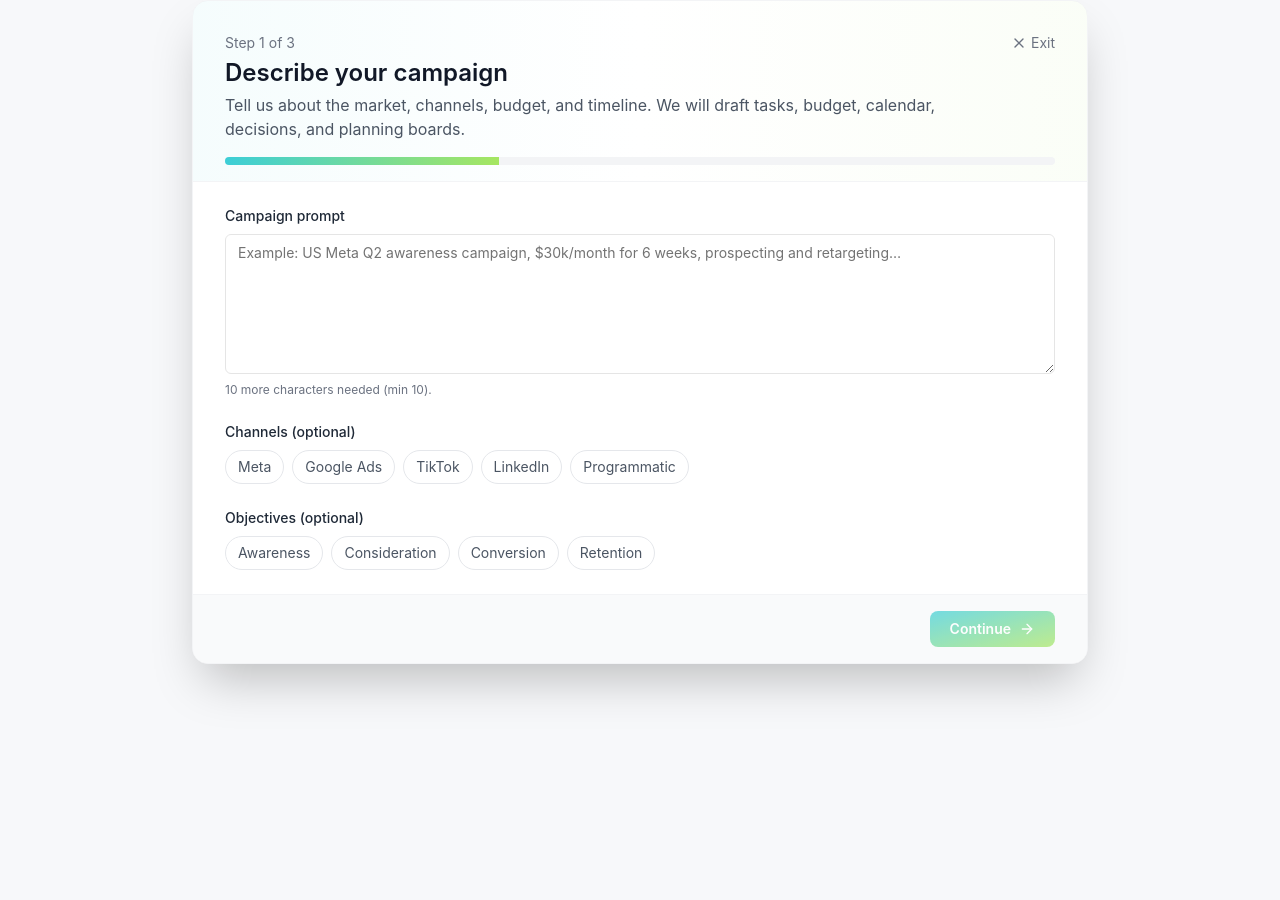
QuickStartWizard › shows confirm error without navigating
Type "US Meta Q2 campaign with $30k monthly budget for six weeks" into the text box labelled "Campaign prompt" at (640, 304), box [225,234,1055,374]
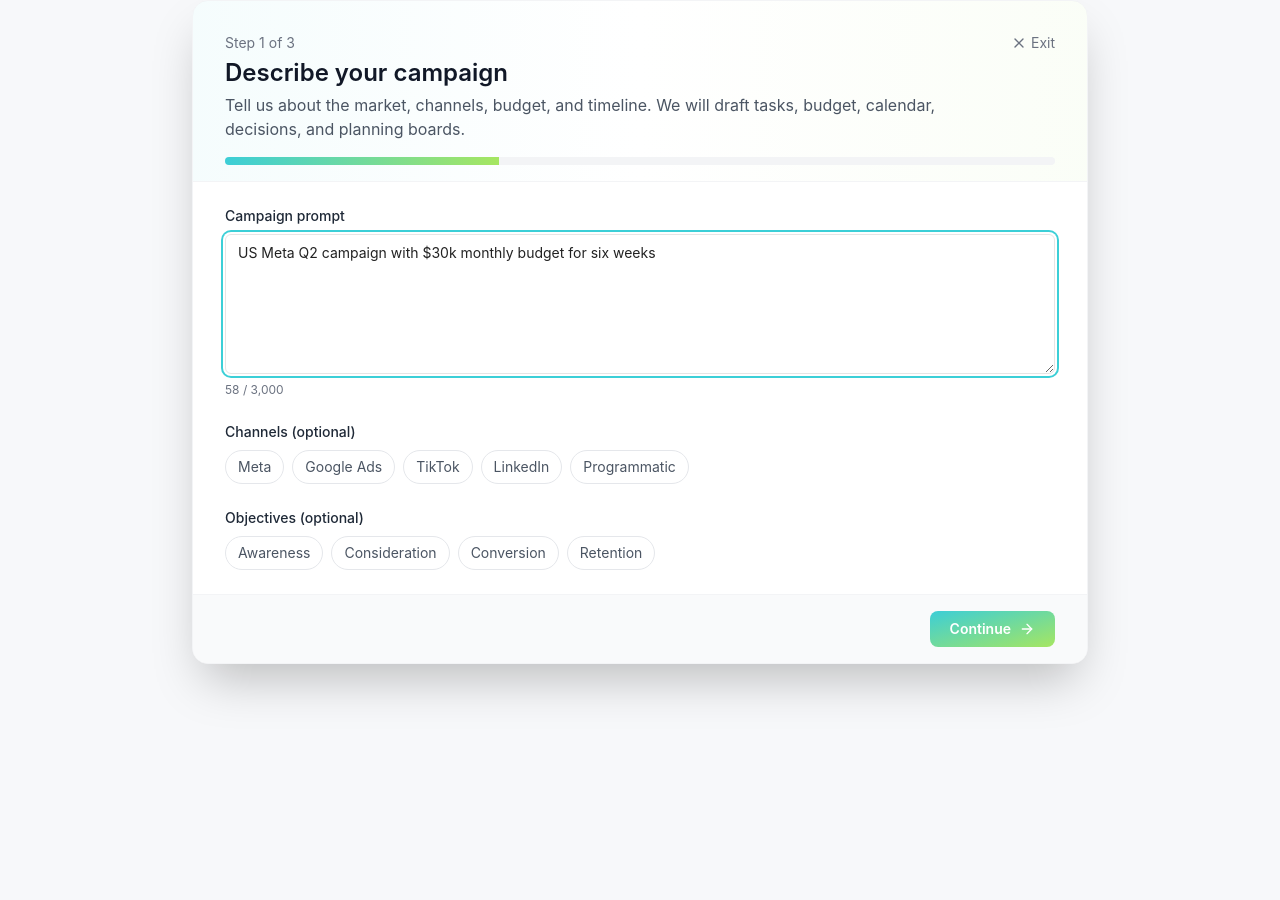
Click the button "Continue" at (992, 629), box [930,611,1055,647]
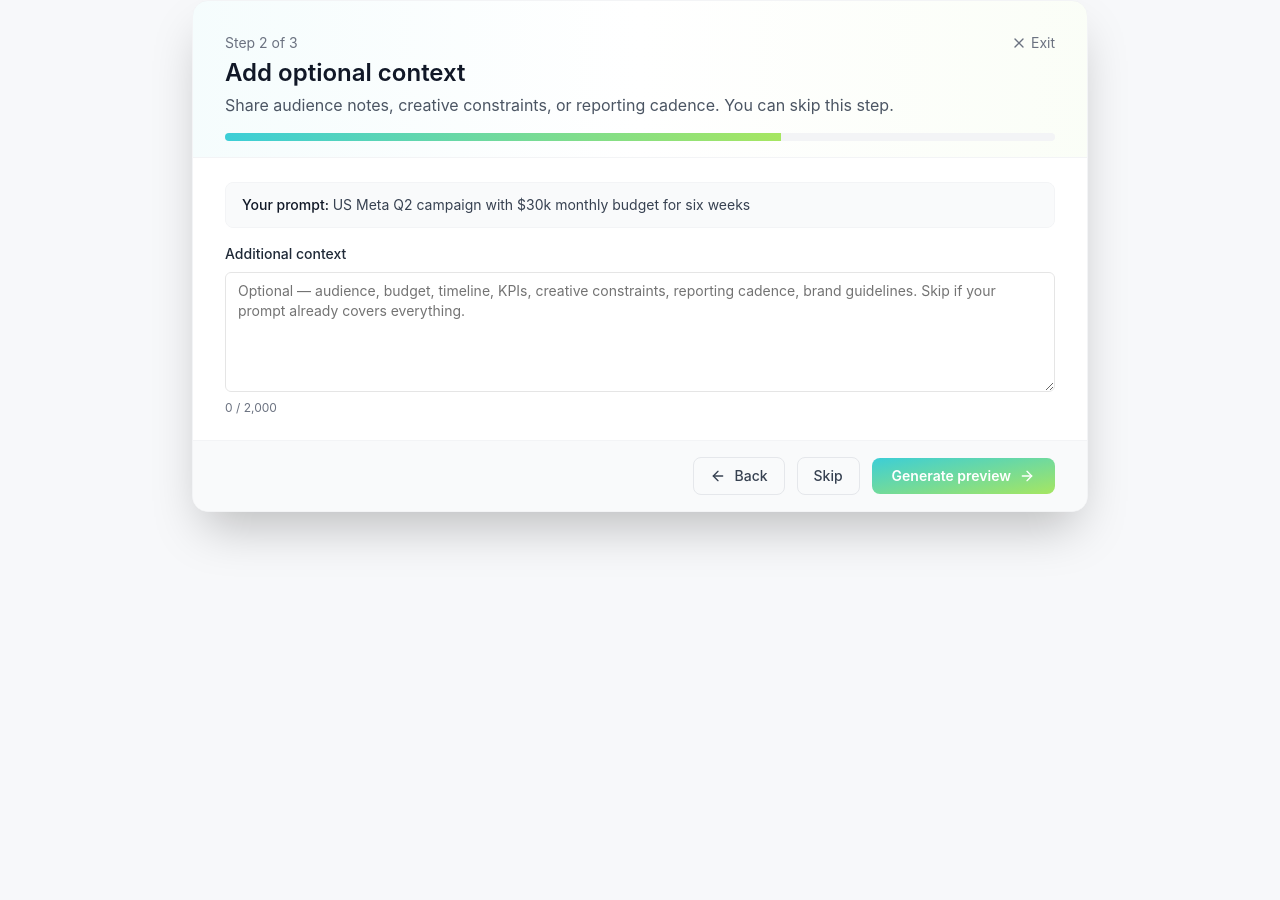
Now the heading "Add optional context" is shown, box [225,58,466,87]
Click the button "Generate preview" at (963, 476), box [872,458,1055,494]
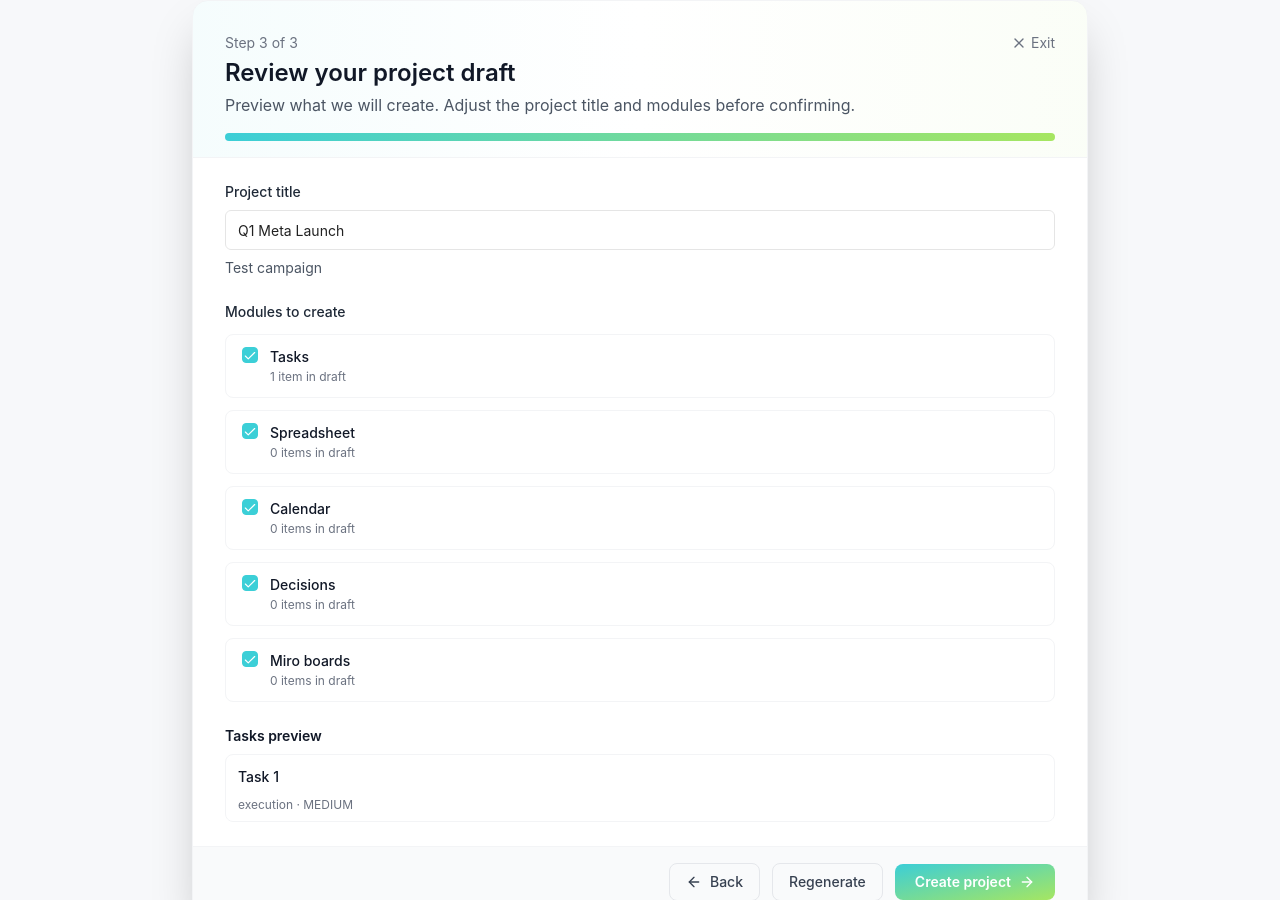
Now the heading "Review your project draft" is shown, box [225,58,516,87]
Click the button "Create project" at (975, 882), box [895,864,1055,899]
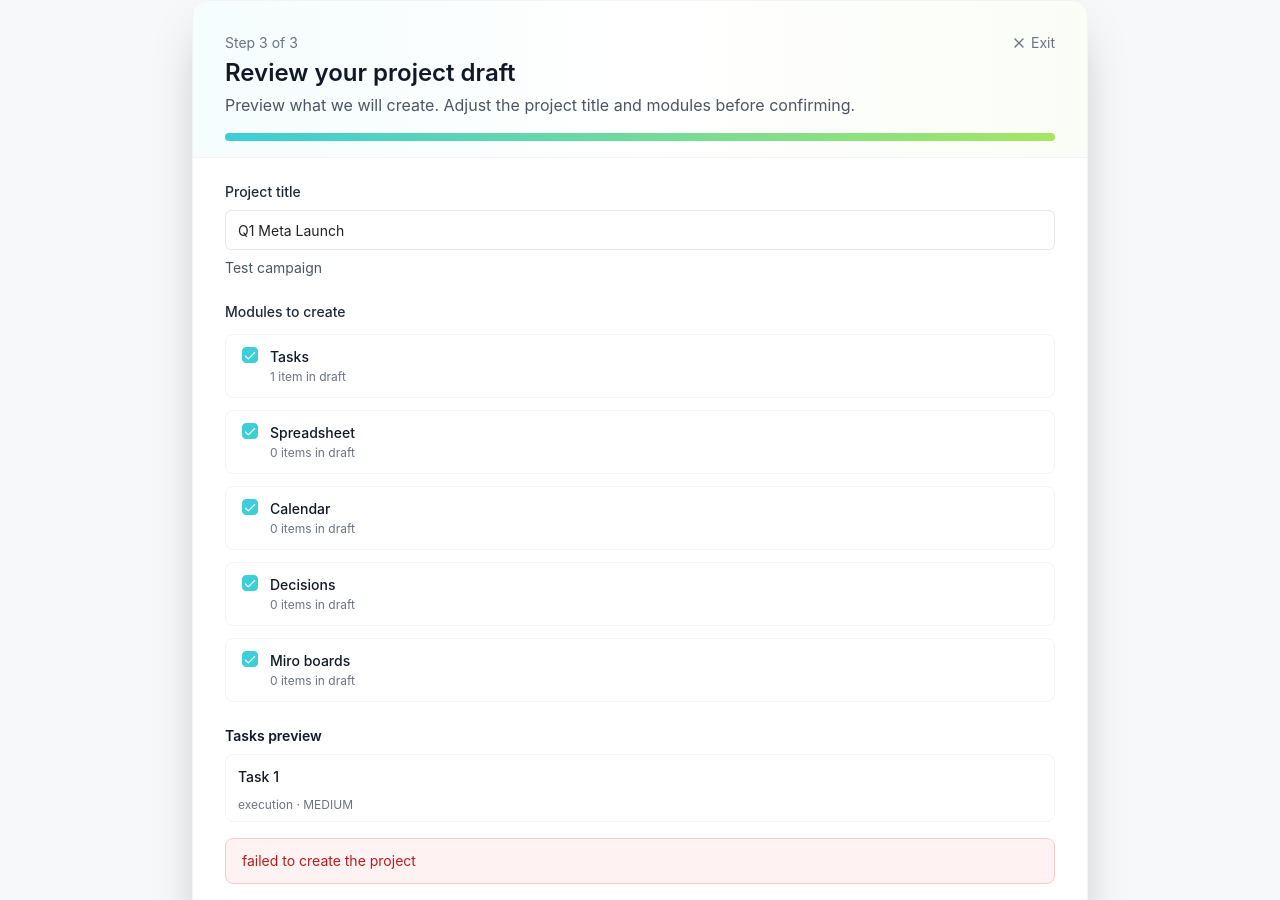
Now the text "failed to create the project" is shown, box [225,838,1055,884]
